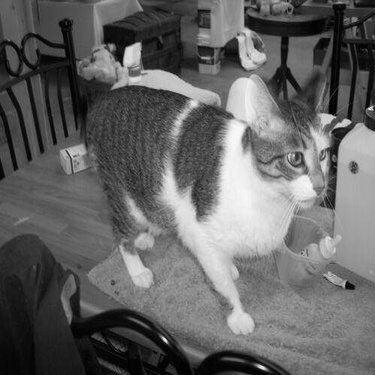cat: (84, 67, 332, 338)
